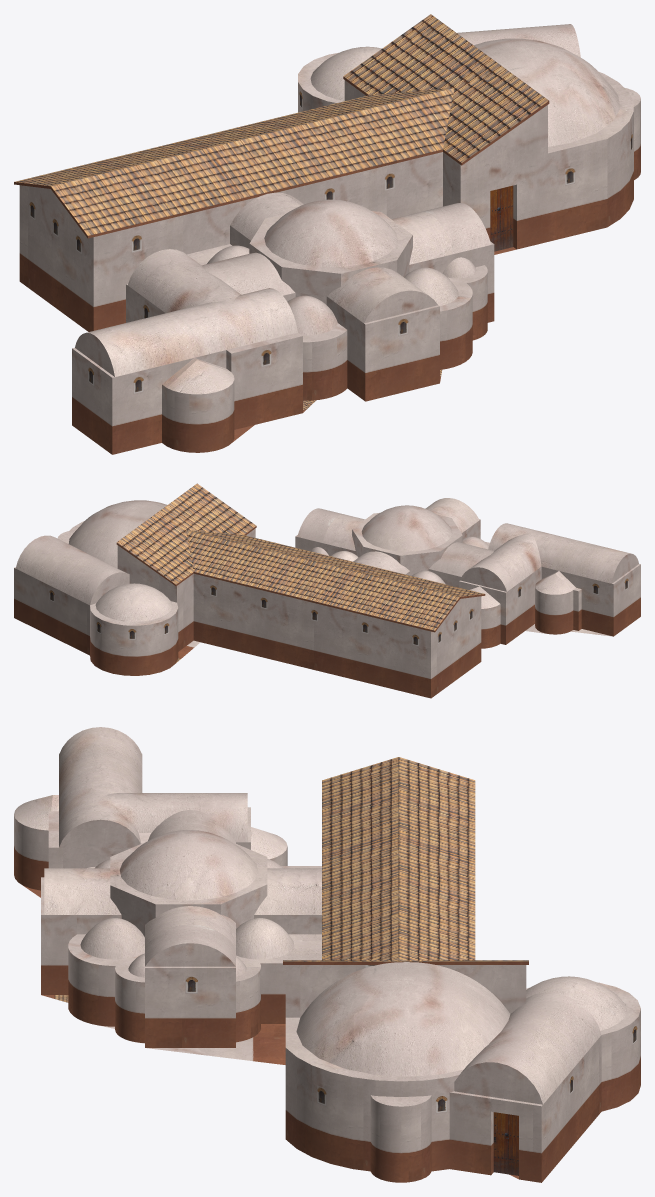
File: bath.fbx
The picture shows the model from 3 angles, top to bottom: view 1: azimuth 30°, elevation 25°; view 2: azimuth 150°, elevation 25°; view 3: azimuth 270°, elevation 25°; orthographic projection. The views are drawn at different scales.
Visible parts, largest first — view 1: Group1; view 2: Group1; view 3: Group1.
Boxes of the visible parts, bbox=[...] form: Group1: bbox=[14, 14, 640, 454]; Group1: bbox=[14, 483, 640, 698]; Group1: bbox=[14, 727, 640, 1182].
Size of the model in its own units: 31986 by 6295 by 24256.
